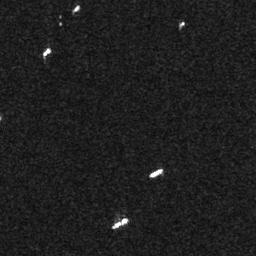ship: (110, 217, 129, 230), (149, 168, 163, 178), (42, 48, 51, 57), (72, 5, 81, 13)
